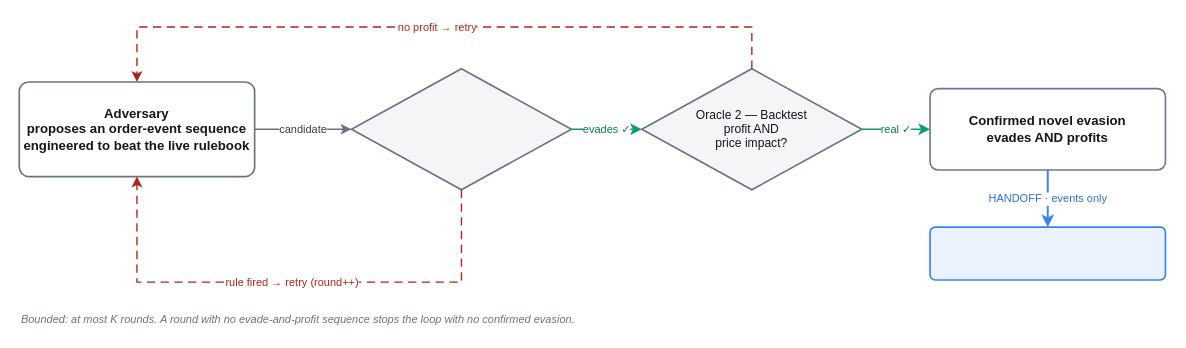
Some shapes in this 1186 by 348 pixel diagram are drawn without their labels. The box of each missing label's shape, as (x1, y1, x2, y2) in pixels:
Oracle 1 — Rule engine did it EVADE? (registry returns PASS): (350, 67, 572, 190)
→ SanitizedBridge → Surveillance Desk: (929, 226, 1166, 280)
